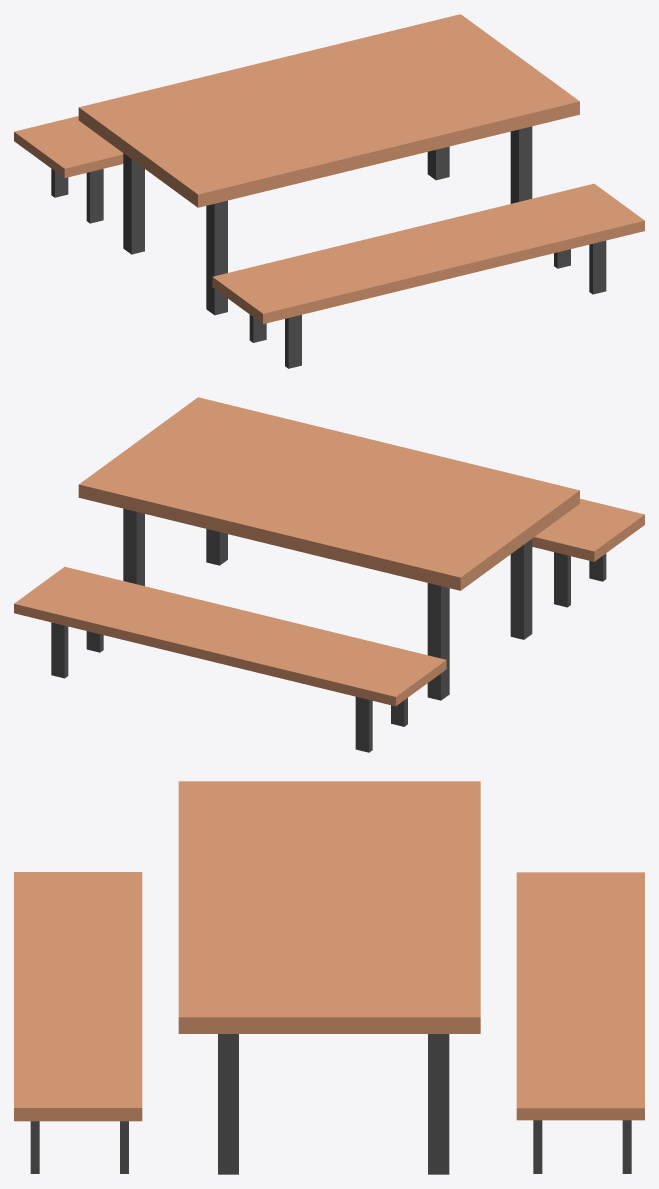
The model's file is Masa.fbx.
3 renders of one model, top to bottom at view 1: azimuth 30°, elevation 25°; view 2: azimuth 150°, elevation 25°; view 3: azimuth 270°, elevation 25°, orthographic. The views are drawn at different scales.
Parts seen in each view (by area): view 1: Masa1, Masa2, Masa3; view 2: Masa1, Masa3, Masa2; view 3: Masa1, Masa2, Masa3.
Part boxes in pixels (x1,y1,x2,y2): Masa1: (78,14,579,315); Masa2: (212,183,644,368); Masa3: (14,116,123,223); Masa1: (78,397,579,700); Masa3: (14,566,446,752); Masa2: (532,498,644,607); Masa1: (178,781,480,1174); Masa2: (14,872,142,1173); Masa3: (516,872,644,1173).
Bounding box in the file's own units: 271 × 94.89 × 306.
